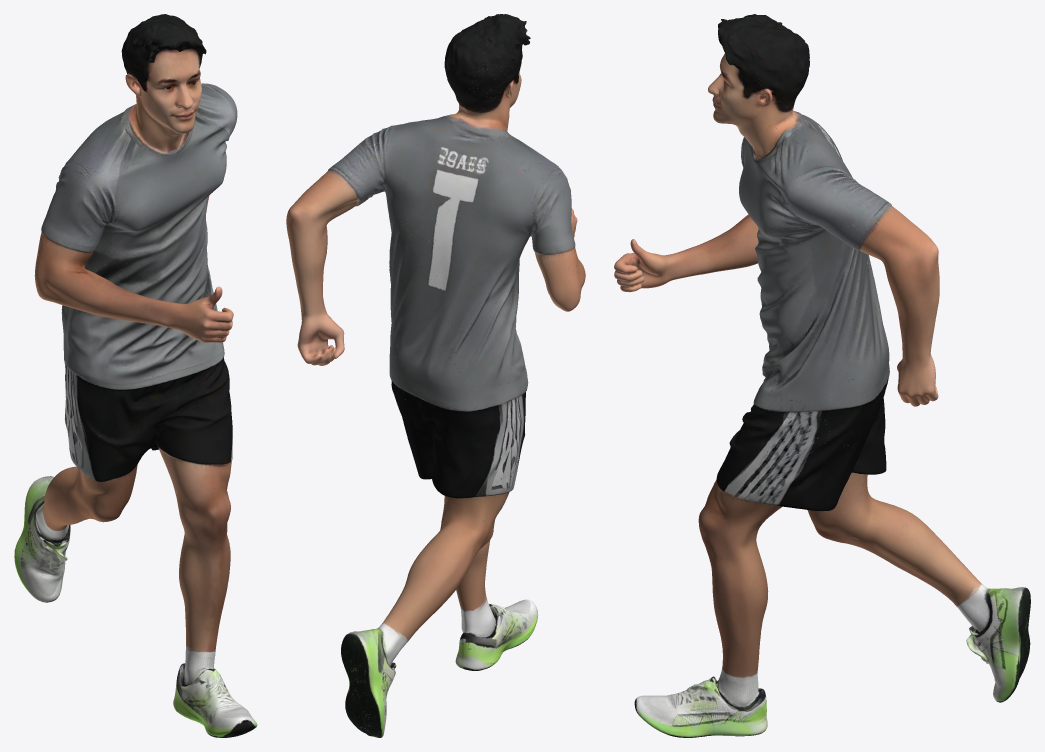
File: runner.glb
The picture shows the model from 3 angles, left to right: view 1: azimuth 30°, elevation 25°; view 2: azimuth 150°, elevation 25°; view 3: azimuth 270°, elevation 25°; orthographic projection. The views are drawn at different scales.
Parts seen in each view (by area): view 1: Object_5, Object_6; view 2: Object_6, Object_5; view 3: Object_6, Object_5.
Boxes of the visible parts, x1,y1,x2,y2 form: Object_5: [37, 15, 257, 737]; Object_6: [14, 14, 237, 602]; Object_6: [286, 28, 585, 737]; Object_5: [352, 14, 585, 670]; Object_6: [741, 22, 1030, 702]; Object_5: [614, 14, 881, 737].
Bounding box in the file's own units: 0.6971 × 1.9 × 1.02.
Materials: 1 (1 with a texture image).
